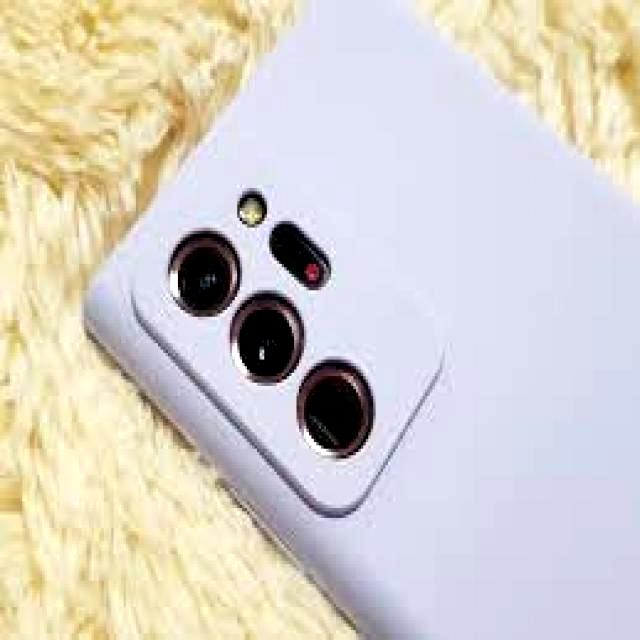lens_back: (280, 346, 389, 472), (204, 294, 318, 396), (149, 229, 262, 326)
